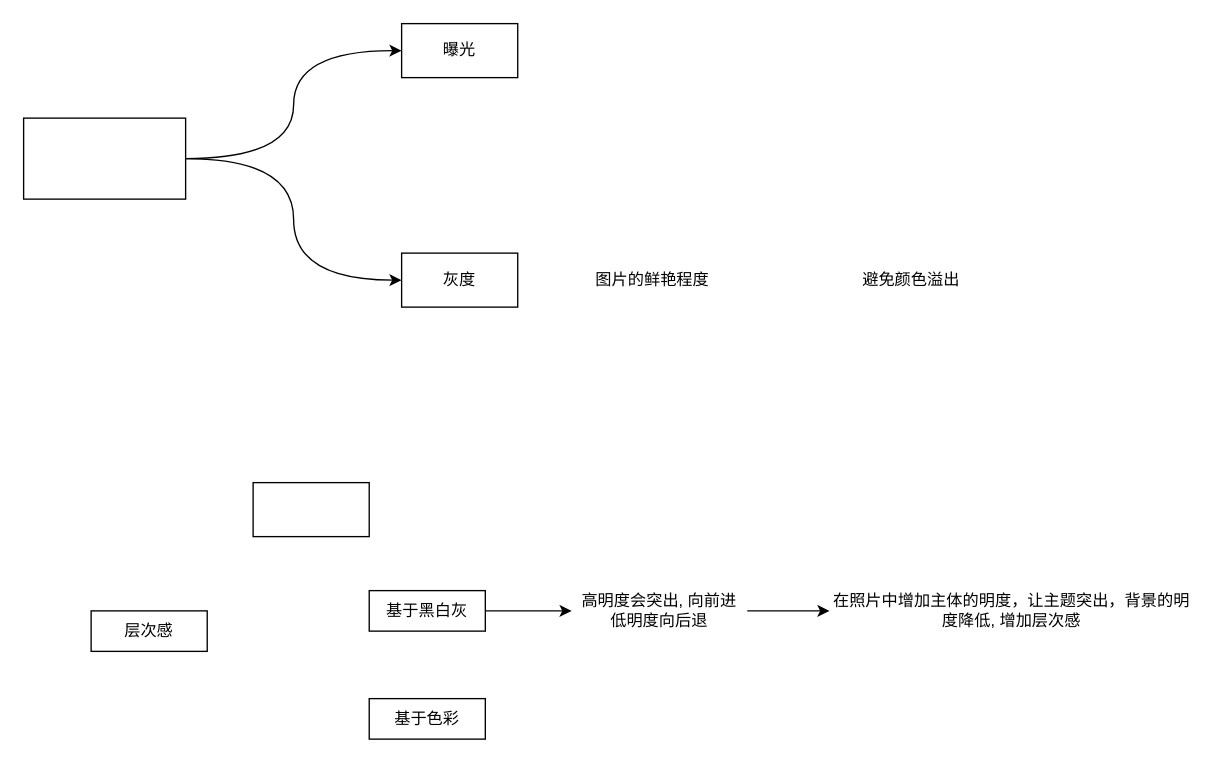
This 1218x763 diagram has some shape labels left out. The shapes that lost their labels are listed below. From the top down, each one's box as (x1, y1, x2, y2) in pixels, then its label:
(22, 117, 186, 199): 直方图
(252, 481, 369, 537): 对比度
